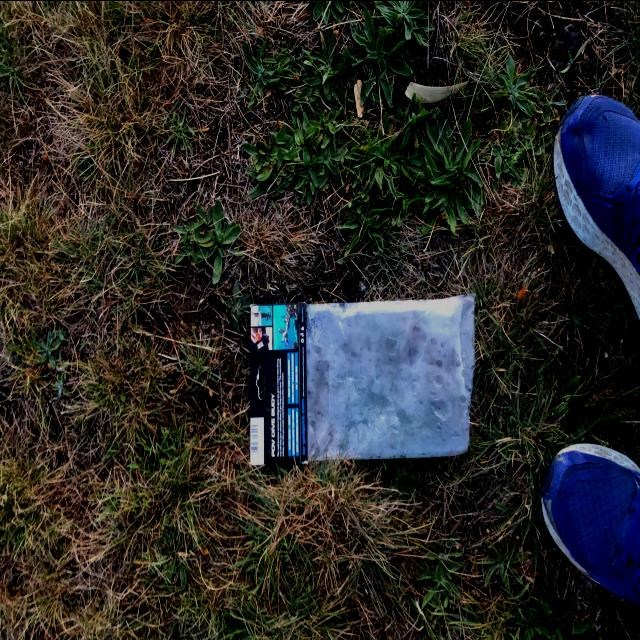Other carton: (250, 302, 307, 463)
Plastic film: (306, 291, 477, 460)
